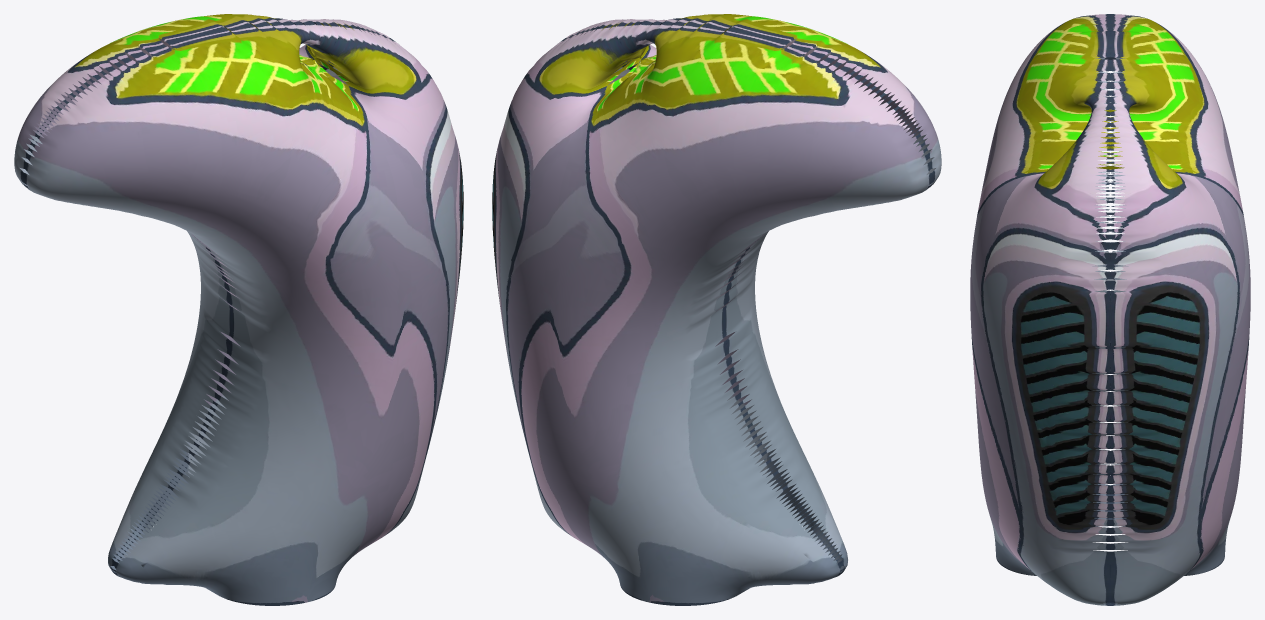
File: green_console.glb
3 renders of one model, left to right at view 1: azimuth 30°, elevation 25°; view 2: azimuth 150°, elevation 25°; view 3: azimuth 270°, elevation 25°, orthographic. The views are drawn at different scales.
Parts seen in each view (by area): view 1: green_console; view 2: green_console; view 3: green_console.
Boxes of the visible parts, left/top/right/bottom form: green_console: left=14, top=14, right=463, bottom=605; green_console: left=492, top=14, right=941, bottom=605; green_console: left=970, top=14, right=1250, bottom=605.
Size of the model in its own units: 0.9866 by 1.21 by 0.6283.
1 material, 1 textured.
